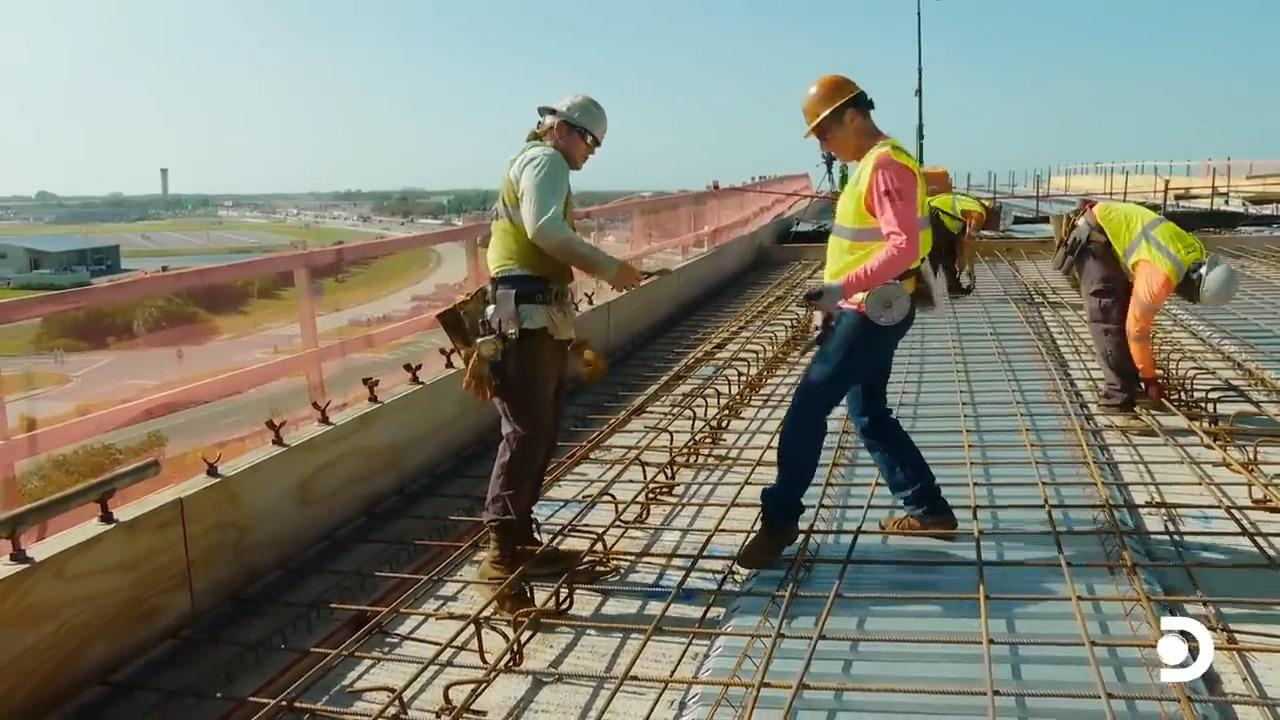Gloves: (804, 277, 848, 317), (1140, 373, 1168, 410)
Helmet: (801, 73, 864, 139), (536, 93, 607, 146), (1195, 252, 1239, 307)
Person: (735, 73, 958, 570), (460, 93, 643, 583), (1053, 197, 1239, 411)
Safety Boot: (485, 540, 569, 586), (735, 526, 790, 566), (882, 517, 957, 544)
Safety Vest: (840, 175, 925, 292), (492, 168, 572, 272), (1098, 212, 1186, 279)
bare-arms: (599, 257, 642, 301)
